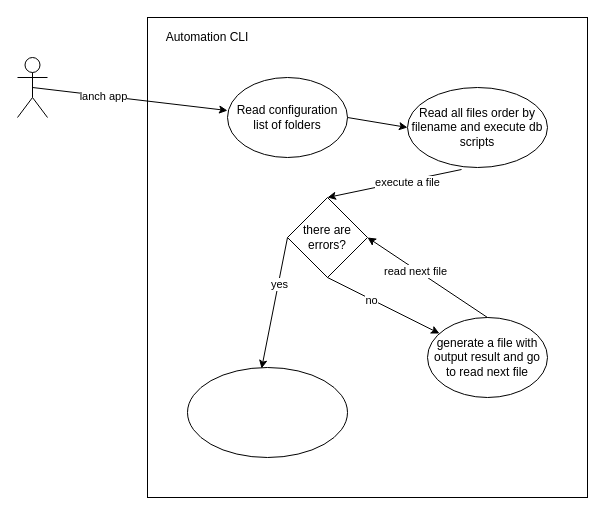
The diagram is 605 pixels wide and 515 high, and some of its shapes have lost their labels. Here are the shapes that lost their labels. From the top down, the centre of each, then its label:
At (x=32, y=87): "Actor".
At (x=267, y=412): "generate a file with output result and stop execution".
